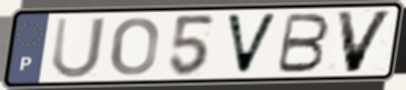5: (166, 12, 218, 79)
B: (273, 12, 333, 75)
O: (109, 16, 161, 78)
U: (49, 15, 108, 81)
V: (333, 9, 397, 75), (223, 12, 281, 77)
